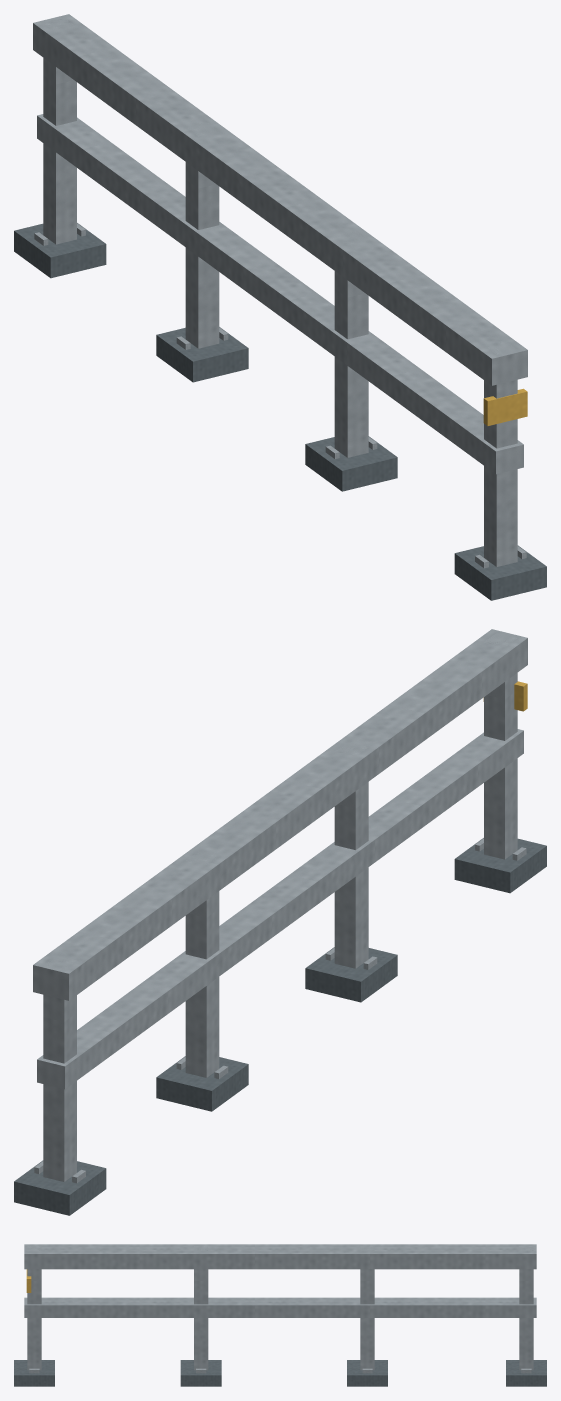
The model's file is PZ_Guardrail_04m_Galvanized.glb.
3 renders of one model, top to bottom at view 1: azimuth 30°, elevation 25°; view 2: azimuth 150°, elevation 25°; view 3: azimuth 270°, elevation 25°, orthographic. The views are drawn at different scales.
Parts seen in each view (by area): view 1: PZ_Guardrail_04m_Galvanized_TOP_W_BEAM, PZ_Guardrail_04m_Galvanized_MID_W_BEAM, PZ_Guardrail_04m_Galvanized_FOUR_BOLTABLE_POSTS, PZ_Guardrail_04m_Galvanized_FOOT_PLATES, PZ_Guardrail_04m_Galvanized_AMBER_END_REFLECTOR, PZ_Guardrail_04m_Galvanized_ANCHOR_FASTENERS; view 2: PZ_Guardrail_04m_Galvanized_TOP_W_BEAM, PZ_Guardrail_04m_Galvanized_MID_W_BEAM, PZ_Guardrail_04m_Galvanized_FOUR_BOLTABLE_POSTS, PZ_Guardrail_04m_Galvanized_FOOT_PLATES, PZ_Guardrail_04m_Galvanized_ANCHOR_FASTENERS; view 3: PZ_Guardrail_04m_Galvanized_TOP_W_BEAM, PZ_Guardrail_04m_Galvanized_MID_W_BEAM, PZ_Guardrail_04m_Galvanized_FOUR_BOLTABLE_POSTS, PZ_Guardrail_04m_Galvanized_FOOT_PLATES, PZ_Guardrail_04m_Galvanized_ANCHOR_FASTENERS.
Part boxes in pixels (x1,y1,x2,y2): PZ_Guardrail_04m_Galvanized_TOP_W_BEAM: (33, 14, 527, 385); PZ_Guardrail_04m_Galvanized_MID_W_BEAM: (37, 114, 523, 474); PZ_Guardrail_04m_Galvanized_FOUR_BOLTABLE_POSTS: (43, 18, 517, 566); PZ_Guardrail_04m_Galvanized_FOOT_PLATES: (14, 223, 546, 600); PZ_Guardrail_04m_Galvanized_AMBER_END_REFLECTOR: (483, 388, 527, 425); PZ_Guardrail_04m_Galvanized_ANCHOR_FASTENERS: (34, 223, 526, 568); PZ_Guardrail_04m_Galvanized_TOP_W_BEAM: (33, 629, 527, 1000); PZ_Guardrail_04m_Galvanized_MID_W_BEAM: (37, 729, 523, 1089); PZ_Guardrail_04m_Galvanized_FOUR_BOLTABLE_POSTS: (43, 633, 517, 1181); PZ_Guardrail_04m_Galvanized_FOOT_PLATES: (14, 838, 546, 1215); PZ_Guardrail_04m_Galvanized_ANCHOR_FASTENERS: (34, 838, 526, 1183); PZ_Guardrail_04m_Galvanized_TOP_W_BEAM: (24, 1244, 536, 1269); PZ_Guardrail_04m_Galvanized_MID_W_BEAM: (24, 1297, 536, 1317); PZ_Guardrail_04m_Galvanized_FOUR_BOLTABLE_POSTS: (27, 1246, 533, 1370); PZ_Guardrail_04m_Galvanized_FOOT_PLATES: (14, 1360, 546, 1386); PZ_Guardrail_04m_Galvanized_ANCHOR_FASTENERS: (29, 1368, 531, 1373).
Size of the model in its own units: 0.28 by 1.12 by 4.16.
3 materials, 3 textured.
